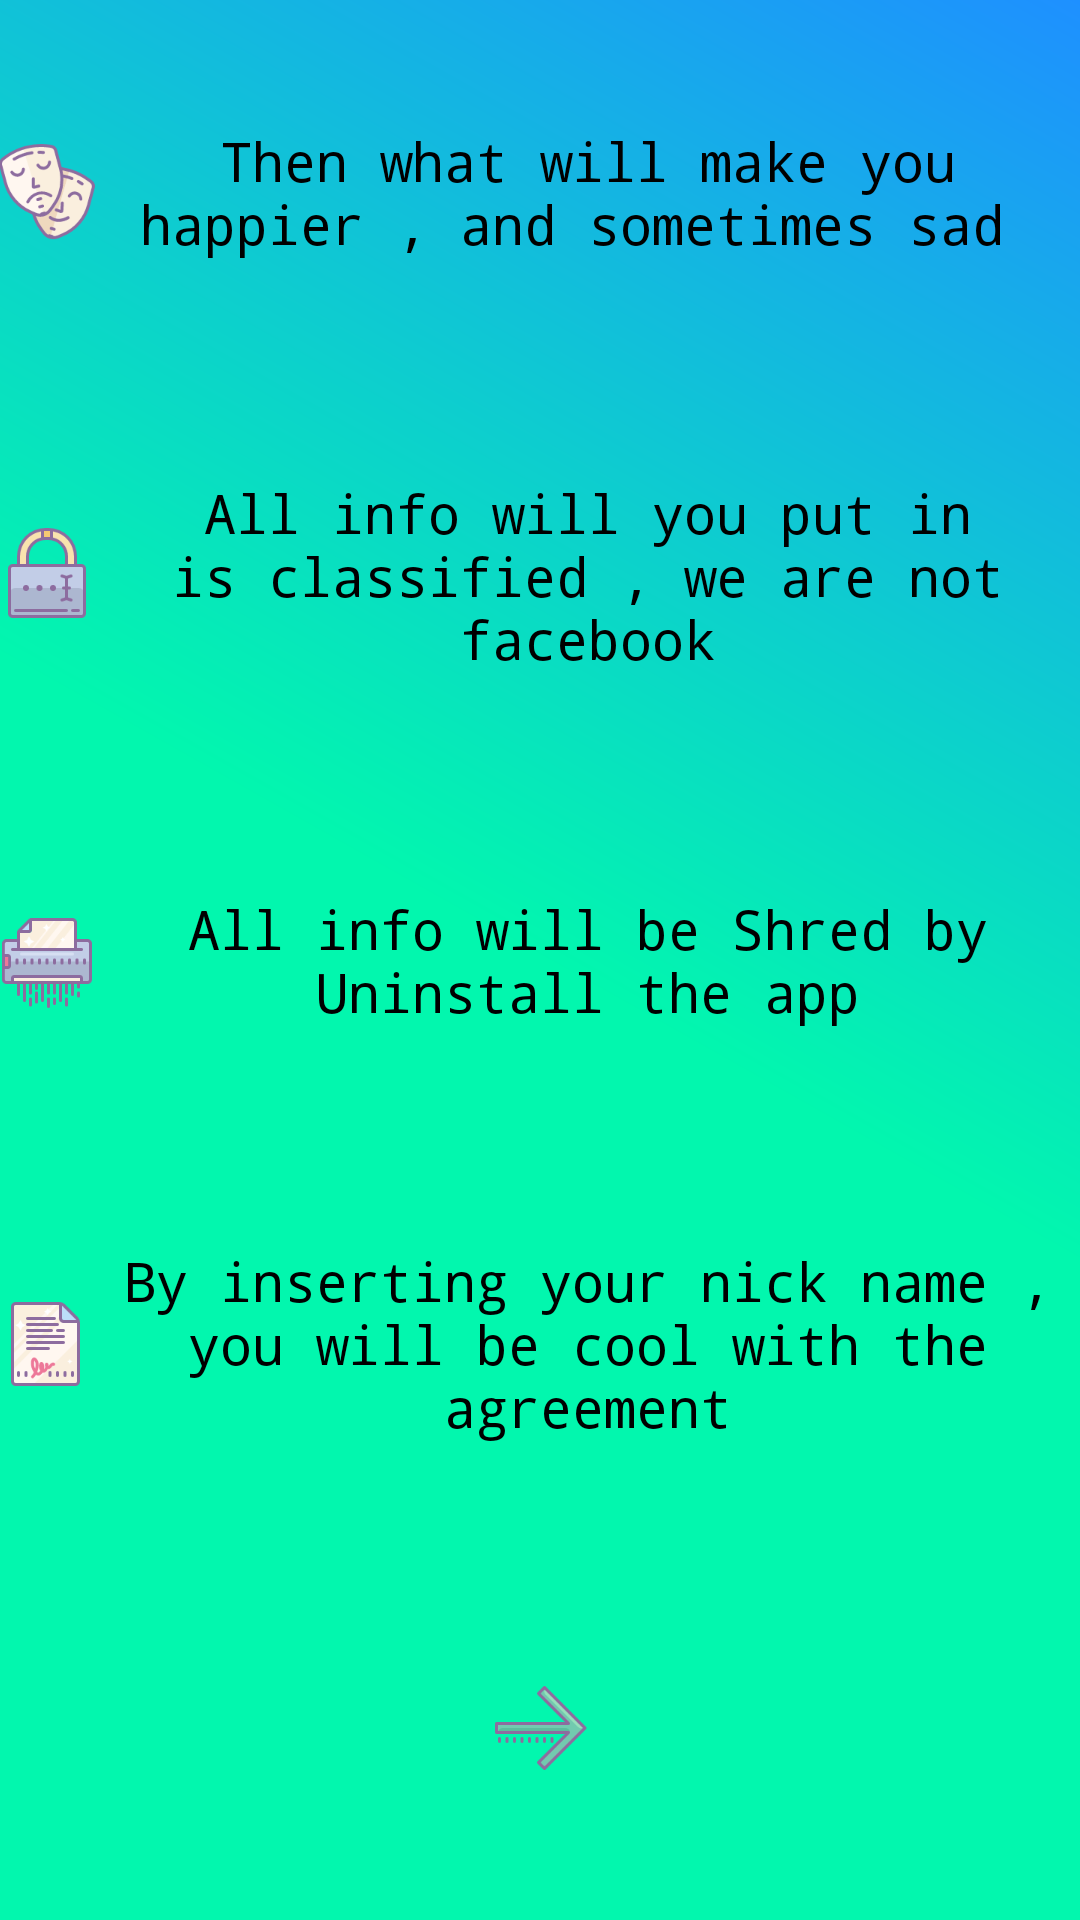

Where icons sit on this 1080w x 1920h app screen, as bbox=[x1, y1, x2, y2]:
next: bbox=[495, 1686, 587, 1770]
